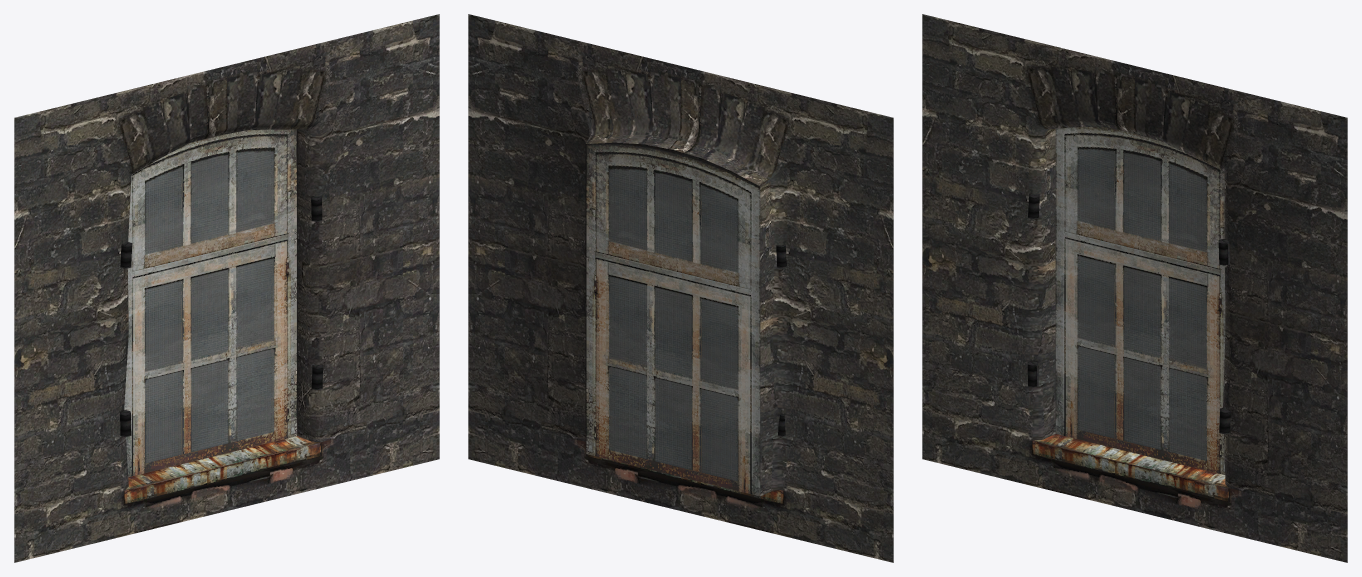
File: factory_facade_01.DAE
3 renders of one model, left to right at view 1: azimuth 30°, elevation 25°; view 2: azimuth 150°, elevation 25°; view 3: azimuth 330°, elevation 25°, orthographic.
Parts seen in each view (by area): view 1: Object001, Box008, Object028; view 2: Object001, Box008; view 3: Object001, Box008, Object028.
Boxes of the visible parts, x1,y1,x2,y2 form: Object001: (14, 14, 439, 516); Box008: (14, 39, 439, 562); Object028: (120, 196, 323, 437); Object001: (468, 14, 893, 516); Box008: (468, 39, 893, 562); Object001: (922, 14, 1347, 516); Box008: (922, 37, 1347, 562); Object028: (1027, 193, 1230, 434).
Bounding box in the file's own units: 4 × 4 × 0.247.
